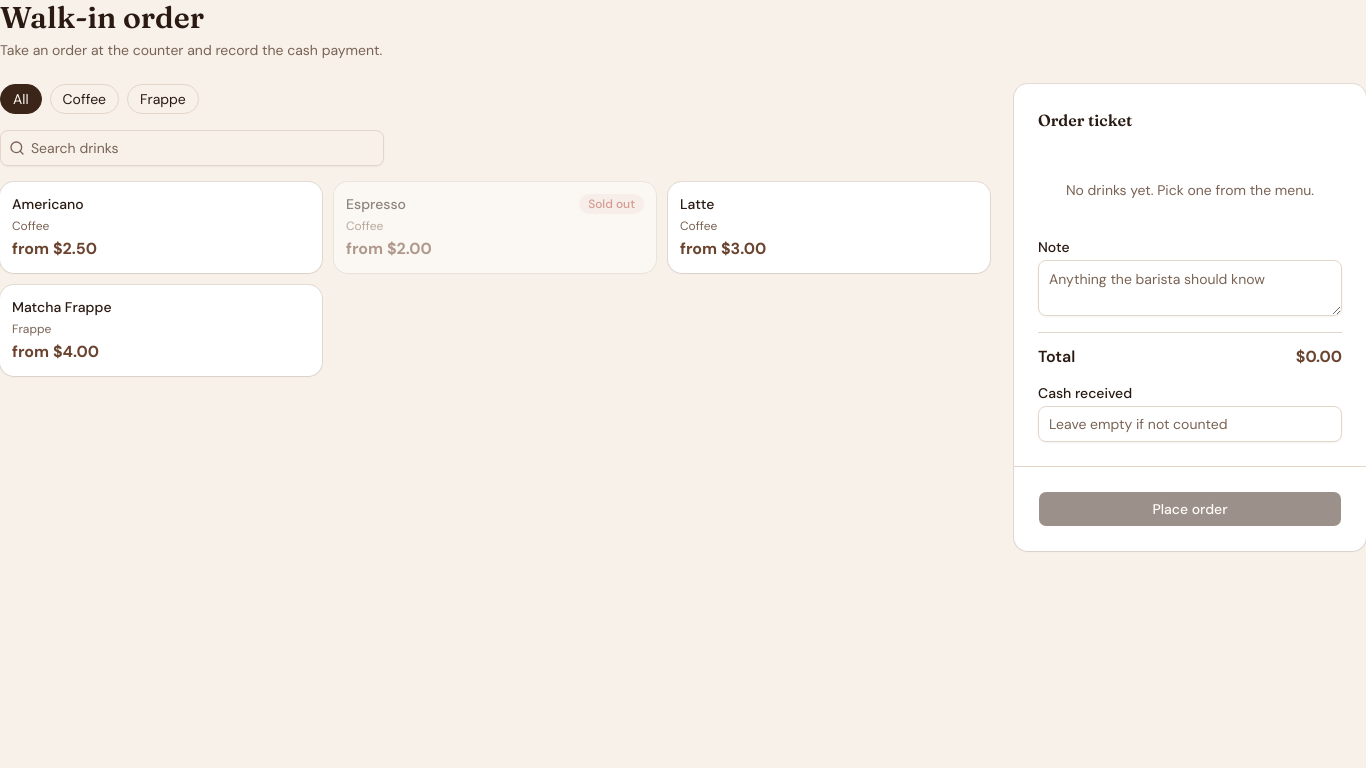
Test: WalkInPage (FR-23, FR-39, BR-13) › shows the ice group only once the drink is iced (BR-01)
Click the button "Latte Coffee from $3.00".
click(697, 204)  # box [668,182,990,273]
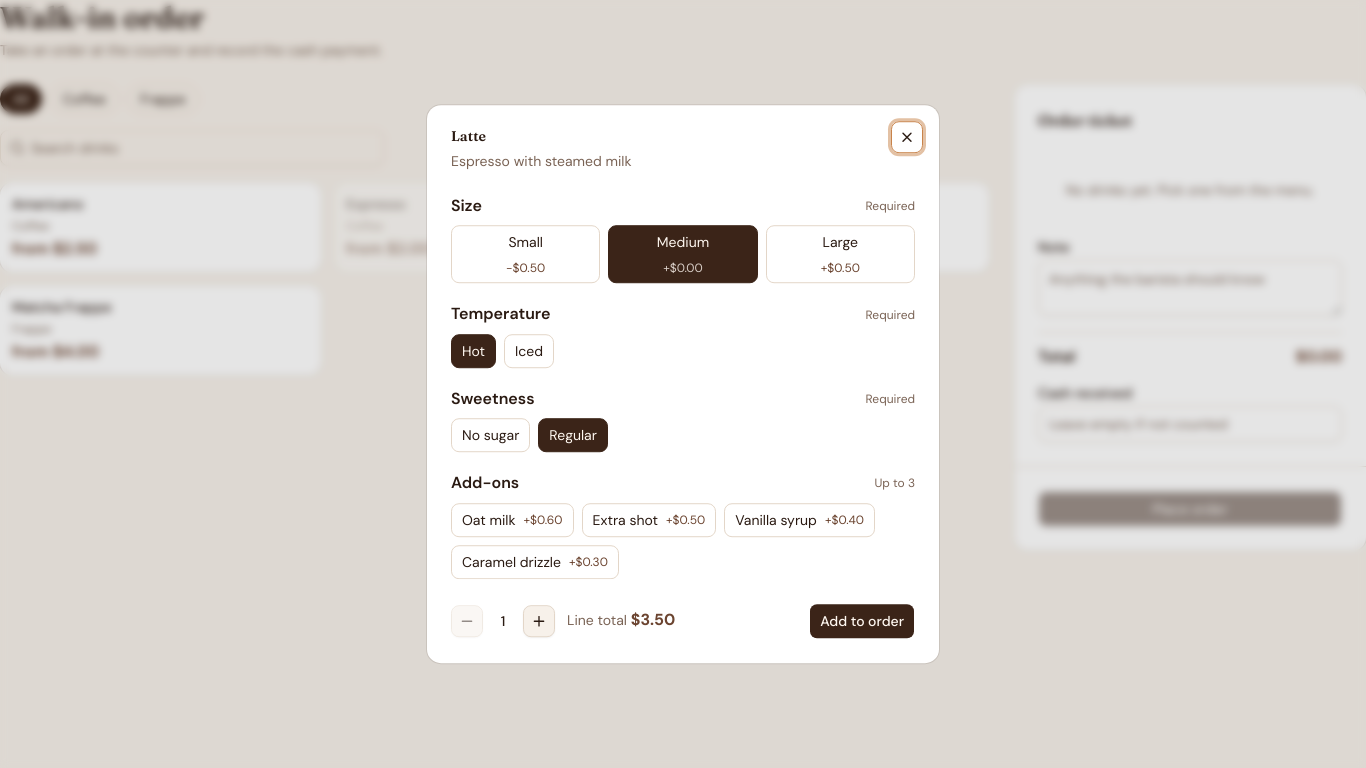
Expected: the text "Ice level" is not shown
Click the button "Iced".
click(529, 351)  # box [504,334,554,368]
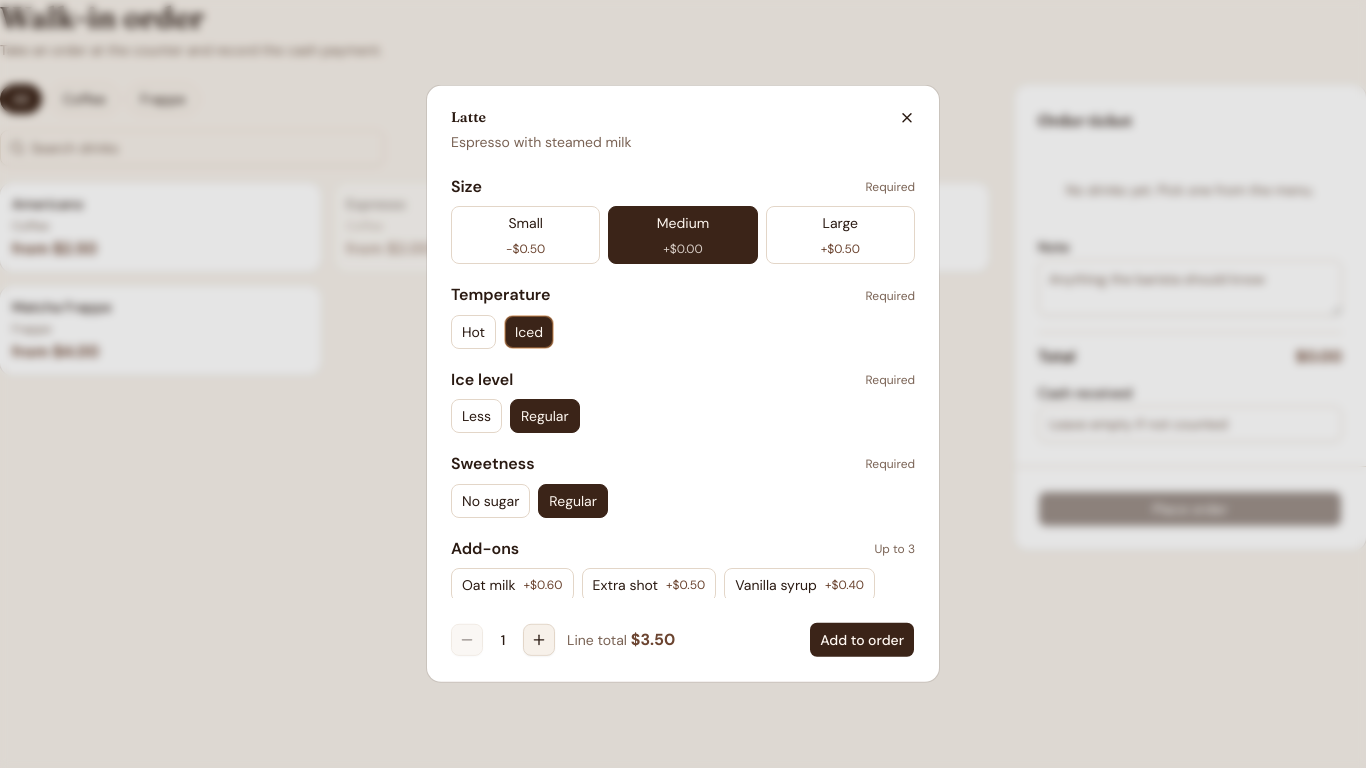
Expected: the text "Ice level" is shown, [451,369,513,391]
Click the button "Hot".
click(474, 332)  # box [451,315,496,349]
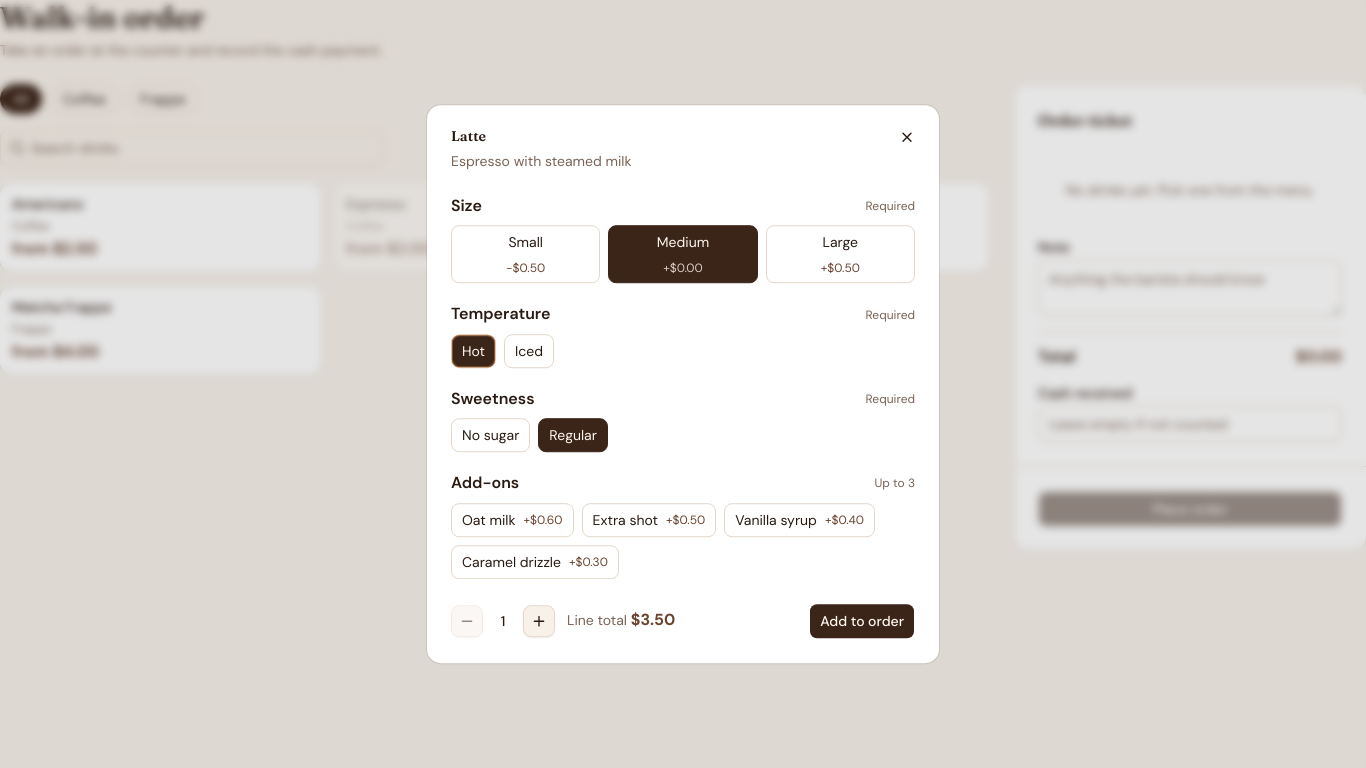
Expected: the text "Ice level" is gone
